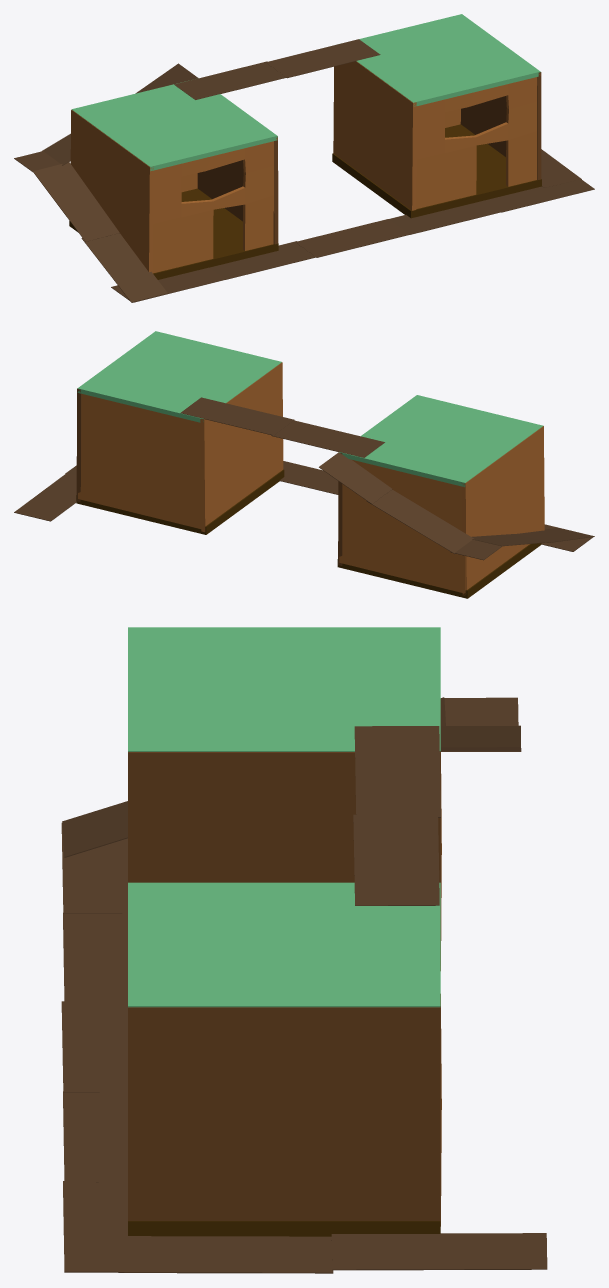
Rendered from housedoublegap.glb.
The picture shows the model from 3 angles, top to bottom: view 1: azimuth 30°, elevation 25°; view 2: azimuth 150°, elevation 25°; view 3: azimuth 270°, elevation 25°; orthographic projection. The views are drawn at different scales.
Visible parts, largest first — view 1: Cube.001, Cube.015, Cube.019, Cube.016, Cube.002, Cube.005, Cube.014, Cube.009, Cube.012, Cube, Cube.013, Cube.020 (+13 smaller); view 2: Cube.018, Cube.015, Cube.001, Cube.004, Cube.002, Cube.016, Cube.026, Cube.029, Cube.028, Cube.025, Cube.023, Cube.014 (+9 smaller); view 3: Cube.017, Cube.015, Cube.001, Cube.003, Cube.024, Cube.023, Cube.029, Cube.028, Cube.020, Cube.021, Cube.008, Cube.022 (+5 smaller).
Boxes of the visible parts, x1=… form: Cube.001: x1=72, y1=80, x2=277, y2=171; Cube.015: x1=356, y1=14, x2=540, y2=106; Cube.019: x1=416, y1=73, x2=540, y2=208; Cube.016: x1=333, y1=61, x2=416, y2=210; Cube.002: x1=70, y1=109, x2=153, y2=273; Cube.005: x1=153, y1=156, x2=213, y2=273; Cube.014: x1=332, y1=124, x2=541, y2=218; Cube.009: x1=243, y1=138, x2=277, y2=250; Cube.012: x1=33, y1=162, x2=119, y2=241; Cube: x1=69, y1=188, x2=278, y2=279; Cube.013: x1=81, y1=233, x2=167, y2=302; Cube.020: x1=295, y1=219, x2=409, y2=257; Cube.018: x1=78, y1=394, x2=203, y2=529; Cube.015: x1=77, y1=331, x2=281, y2=422; Cube.001: x1=339, y1=395, x2=543, y2=487; Cube.004: x1=339, y1=460, x2=465, y2=593; Cube.002: x1=461, y1=426, x2=544, y2=595; Cube.016: x1=200, y1=362, x2=283, y2=532; Cube.026: x1=366, y1=489, x2=474, y2=553; Cube.029: x1=180, y1=397, x2=294, y2=435; Cube.028: x1=271, y1=420, x2=384, y2=457; Cube.025: x1=319, y1=452, x2=392, y2=503; Cube.023: x1=14, y1=473, x2=76, y2=521; Cube.014: x1=76, y1=469, x2=284, y2=534; Cube.017: x1=128, y1=1007, x2=440, y2=1220; Cube.015: x1=128, y1=882, x2=440, y2=1007; Cube.001: x1=128, y1=627, x2=440, y2=751; Cube.003: x1=128, y1=752, x2=440, y2=882; Cube.024: x1=118, y1=1236, x2=333, y2=1273; Cube.023: x1=331, y1=1233, x2=547, y2=1270; Cube.029: x1=353, y1=814, x2=439, y2=905; Cube.028: x1=354, y1=726, x2=440, y2=817; Cube.020: x1=61, y1=1001, x2=127, y2=1092; Cube.021: x1=63, y1=1091, x2=127, y2=1182; Cube.008: x1=63, y1=913, x2=127, y2=1001; Cube.022: x1=63, y1=1181, x2=127, y2=1272.
Size of the model in its own units: 19.85 by 4.72 by 8.98.
